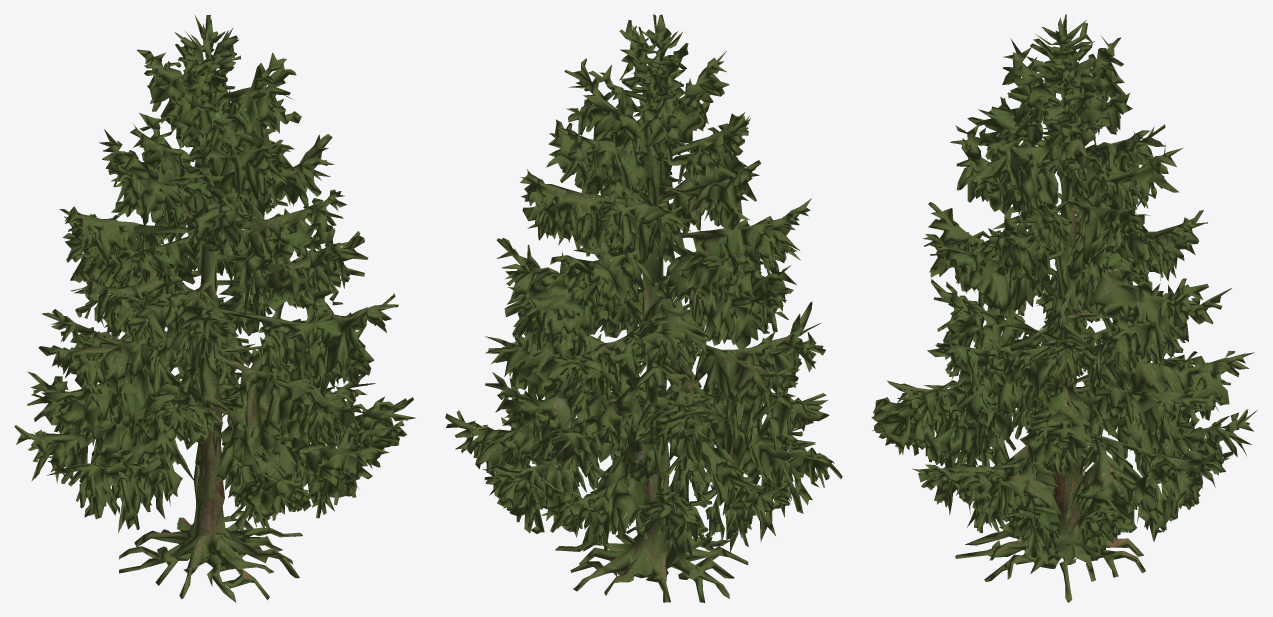
File: abies-sapling-l0.glb
3 renders of one model, left to right at view 1: azimuth 30°, elevation 25°; view 2: azimuth 150°, elevation 25°; view 3: azimuth 270°, elevation 25°, orthographic. The views are drawn at different scales.
Visible parts, largest first — view 1: world; view 2: world; view 3: world.
Boxes of the visible parts, bbox=[...] form: world: bbox=[14, 15, 415, 602]; world: bbox=[445, 14, 842, 602]; world: bbox=[871, 14, 1257, 602].
Bounding box in the file's own units: 2.35 × 3.5 × 2.26.
Materials: 1 (1 with a texture image).
